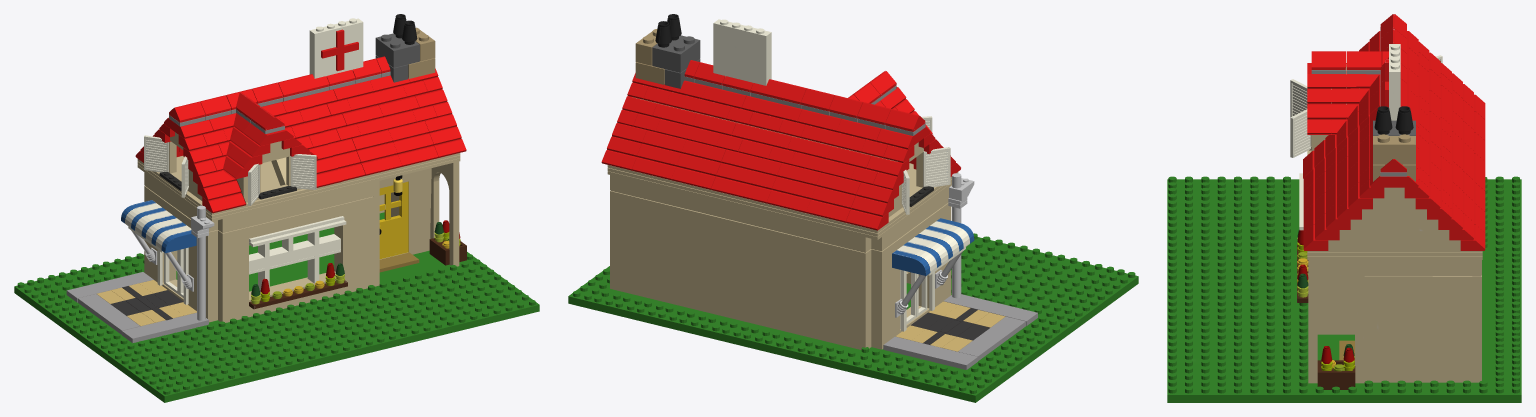
The model's file is LEGOHOSPITAL.FBX.
3 views of the same model, side by side, from view 1: azimuth 30°, elevation 25°; view 2: azimuth 150°, elevation 25°; view 3: azimuth 270°, elevation 25° (orthographic). The views are drawn at different scales.
Parts seen in each view (by area): view 1: Box001; view 2: Box001; view 3: Box001.
Boxes of the visible parts, box(x1,y1,x2,y2) form: Box001: box(14, 14, 539, 402); Box001: box(568, 14, 1138, 402); Box001: box(1167, 14, 1521, 402).
Bounding box in the file's own units: 343 × 212 × 238.
